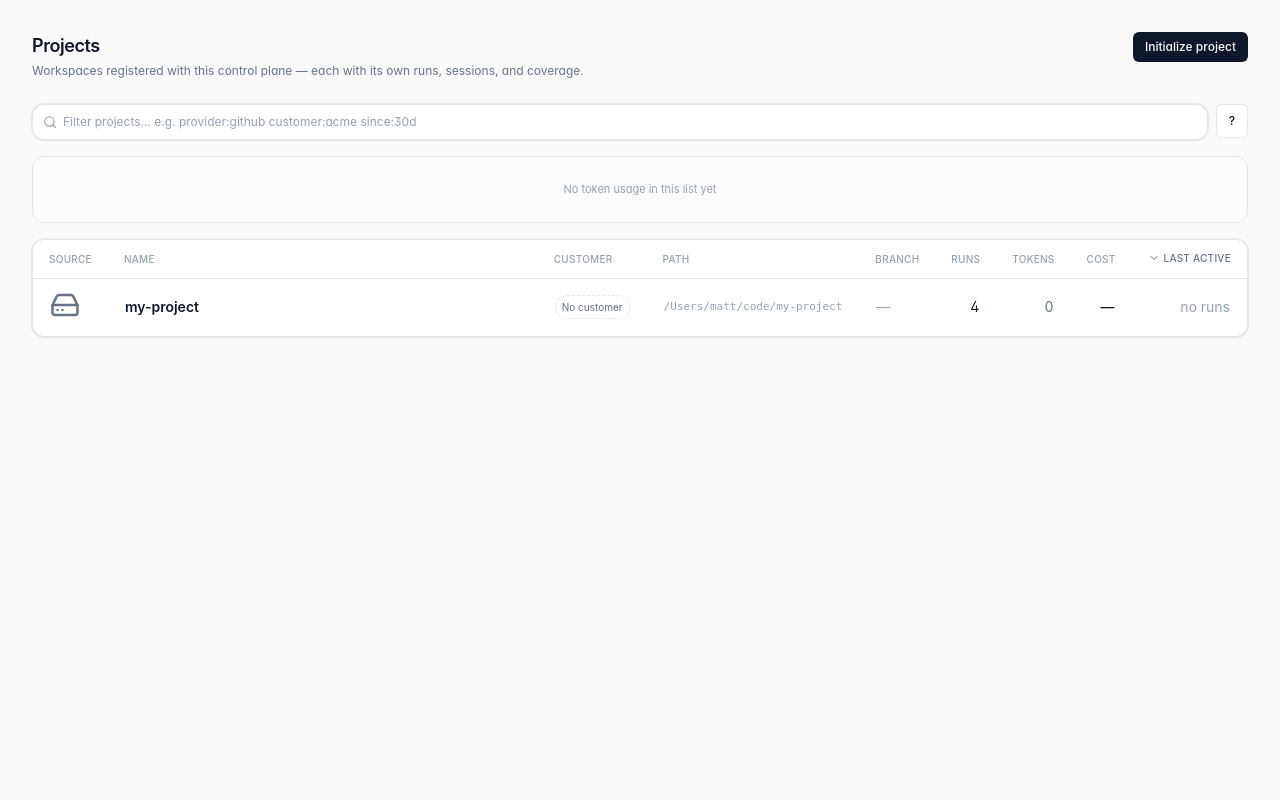
Test: Projects: Initialize project (Plan 3b) › opens the init dialog from the header
Click the button "Initialize project".
click(1190, 47)  # box [1133,32,1248,62]
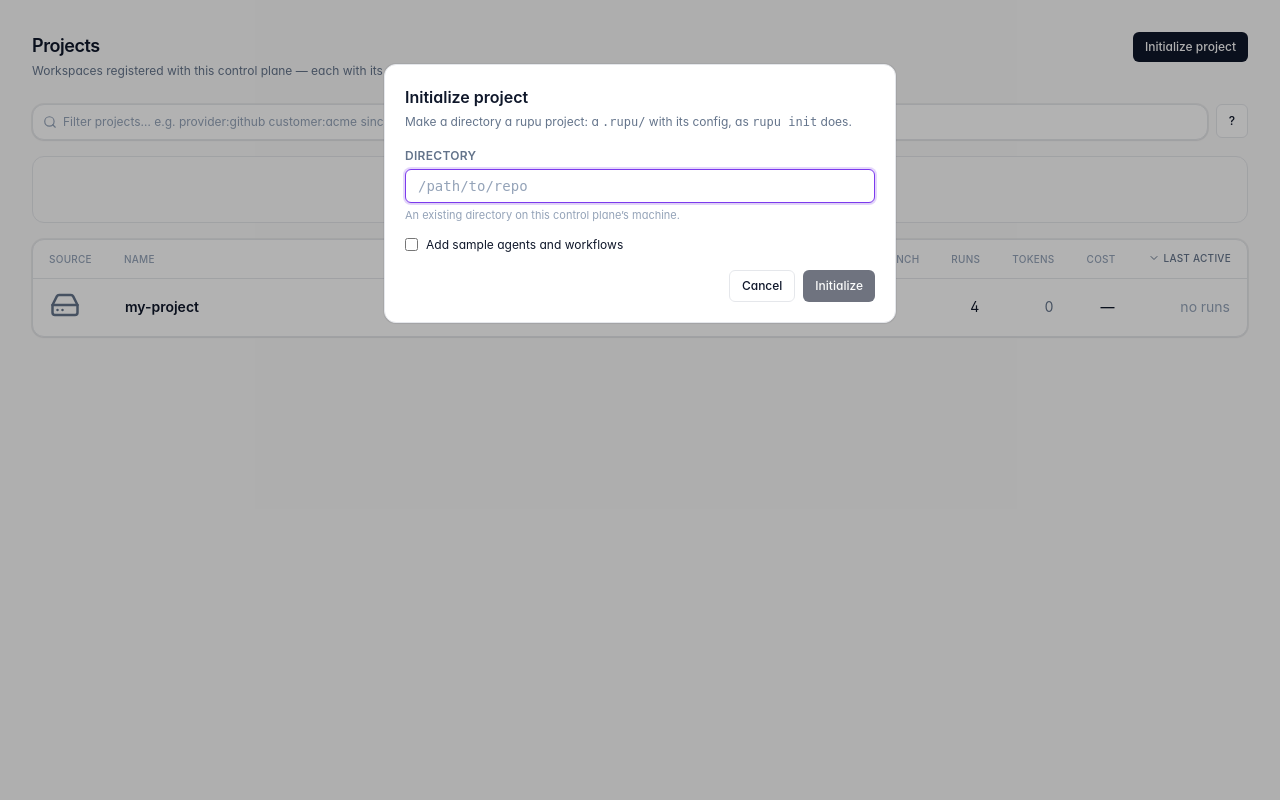
Check: the dialog "Initialize project" is shown, box [384,64,896,322]
